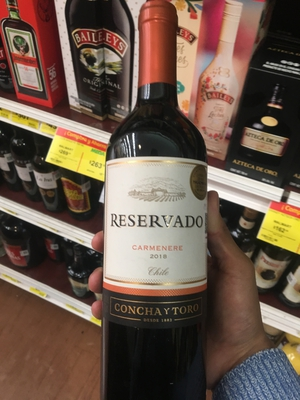reservado carmenere: (102, 9, 213, 400)
